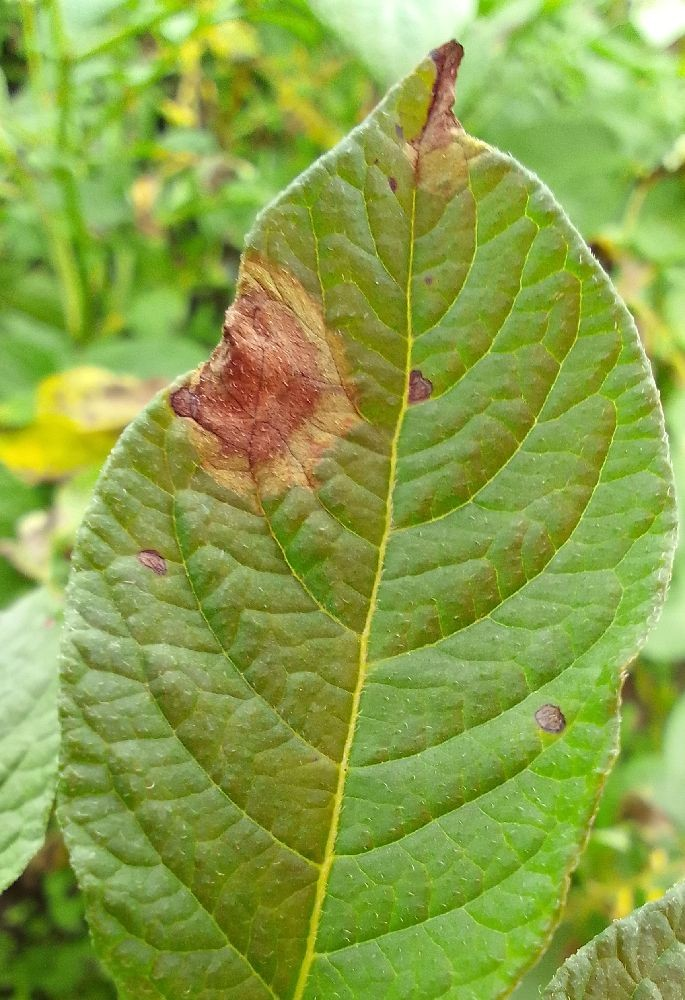late_blight: (8, 230, 451, 542), (109, 703, 357, 1000), (367, 20, 505, 232), (0, 799, 88, 975)
